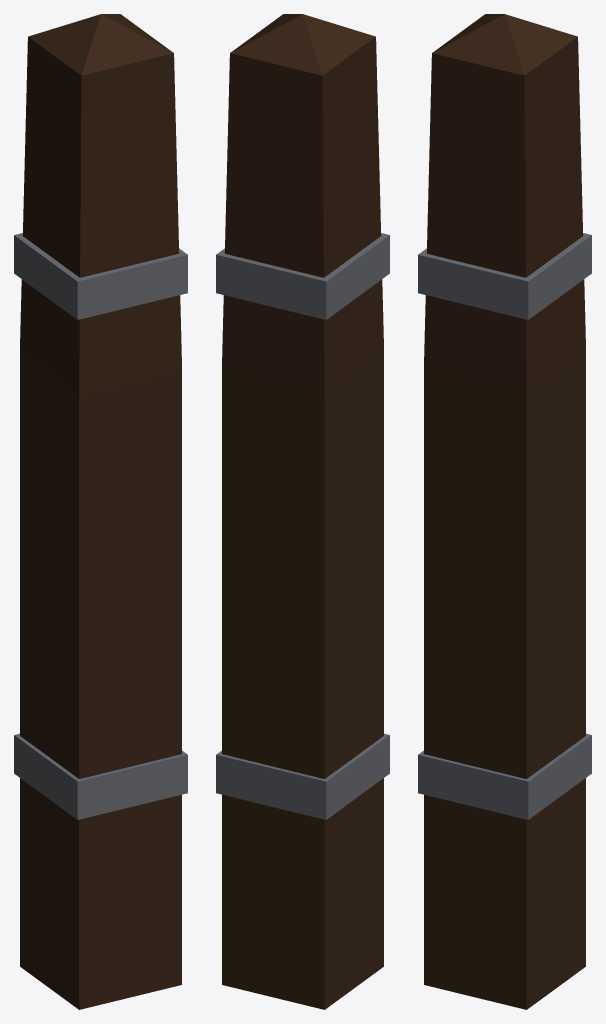
File: SN_Dock_Fender.glb
3 views of the same model, side by side, from view 1: azimuth 30°, elevation 25°; view 2: azimuth 150°, elevation 25°; view 3: azimuth 330°, elevation 25° (orthographic).
Visible parts, largest first — view 1: SN_Dock_Fender; view 2: SN_Dock_Fender; view 3: SN_Dock_Fender.
Part boxes in pixels (<box>): SN_Dock_Fender: <box>14,14,187,1009</box>; SN_Dock_Fender: <box>216,14,389,1009</box>; SN_Dock_Fender: <box>418,14,591,1009</box>.
Size of the model in its own units: 0.3 by 2.5 by 0.3.
